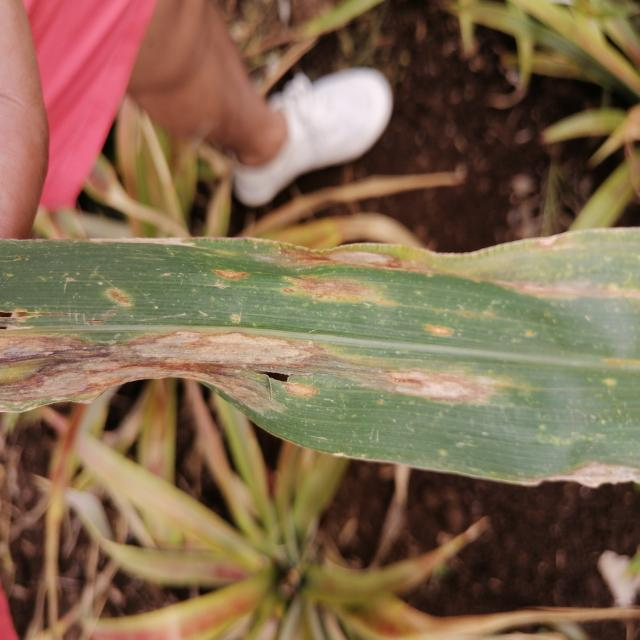Corn_Leaf_Blight: (0, 231, 610, 492)
